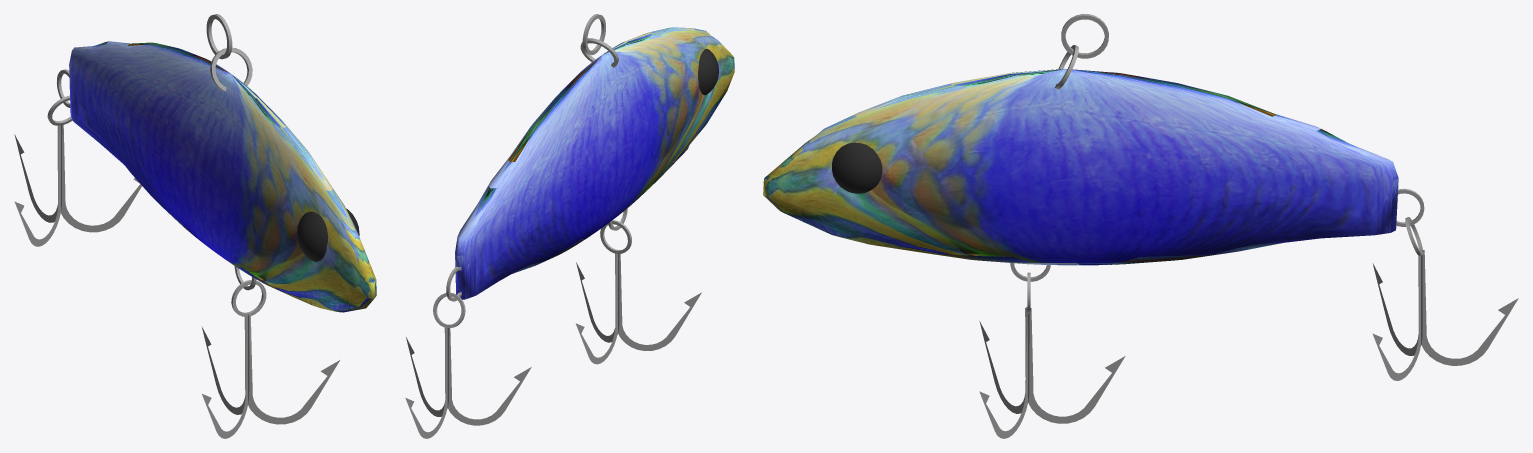
Rendered from blue_fishing_lure_with_treble_hooks.glb.
3 renders of one model, left to right at view 1: azimuth 30°, elevation 25°; view 2: azimuth 150°, elevation 25°; view 3: azimuth 270°, elevation 25°, orthographic. The views are drawn at different scales.
Visible parts, largest first — view 1: Sphere_5, anzuelo_0, anzuelo.001_1, Sphere.001_6, cadena.002_4, cadena_2, cadena.001_3; view 2: Sphere_5, anzuelo_0, anzuelo.001_1, Sphere.001_6, cadena.002_4, cadena.001_3, cadena_2; view 3: Sphere_5, anzuelo_0, anzuelo.001_1, Sphere.001_6, cadena.002_4.
Part boxes in pixels (x1,y1,x2,y2): Sphere_5: (69, 41, 376, 312); anzuelo_0: (201, 314, 339, 438); anzuelo.001_1: (14, 123, 141, 246); Sphere.001_6: (297, 208, 359, 261); cadena.002_4: (206, 14, 252, 91); cadena_2: (231, 266, 266, 316); cadena.001_3: (47, 69, 72, 125); Sphere_5: (455, 27, 734, 299); anzuelo_0: (575, 252, 701, 364); anzuelo.001_1: (405, 325, 531, 438); Sphere.001_6: (698, 48, 718, 95); cadena.002_4: (580, 14, 618, 67); cadena.001_3: (433, 266, 465, 327); cadena_2: (600, 208, 631, 253); Sphere_5: (763, 69, 1398, 265); anzuelo_0: (979, 307, 1125, 438); anzuelo.001_1: (1372, 249, 1518, 380); Sphere.001_6: (832, 142, 882, 193); cadena.002_4: (1055, 14, 1108, 89).
Bounding box in the file's own units: 0.6485 × 1.73 × 2.91.
5 materials, 1 textured.
